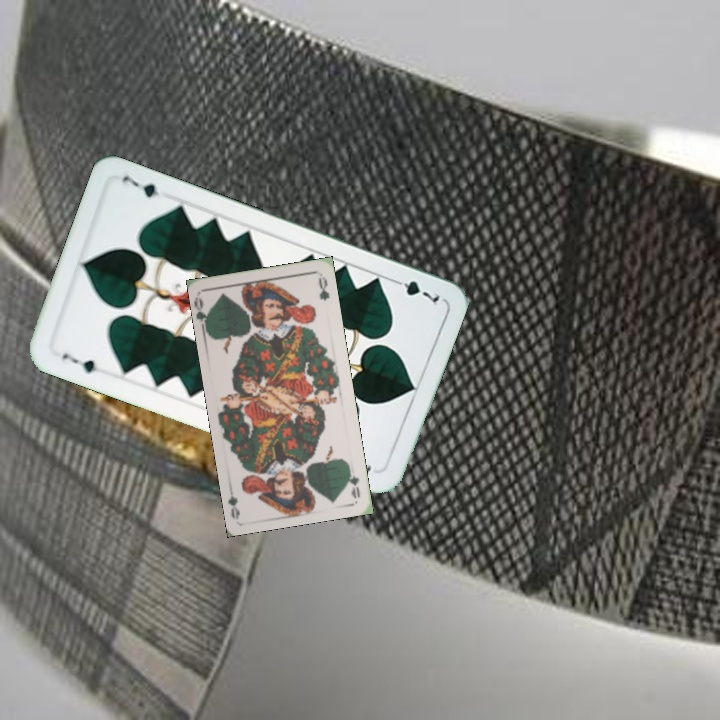G7: (386, 274, 443, 308), (58, 349, 100, 376)
GO: (192, 293, 214, 334), (343, 460, 362, 500)
